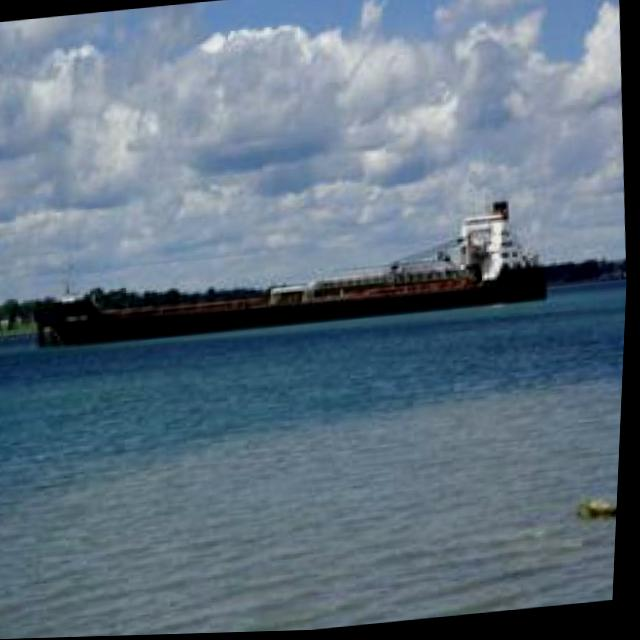ship2: (18, 203, 554, 348)
